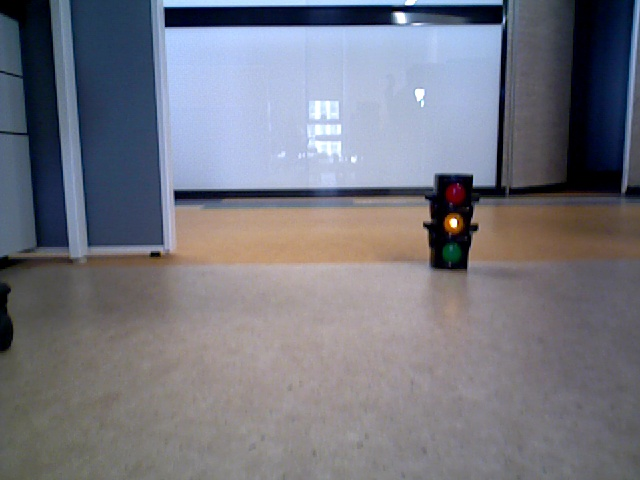yellow: (433, 172, 469, 264)
